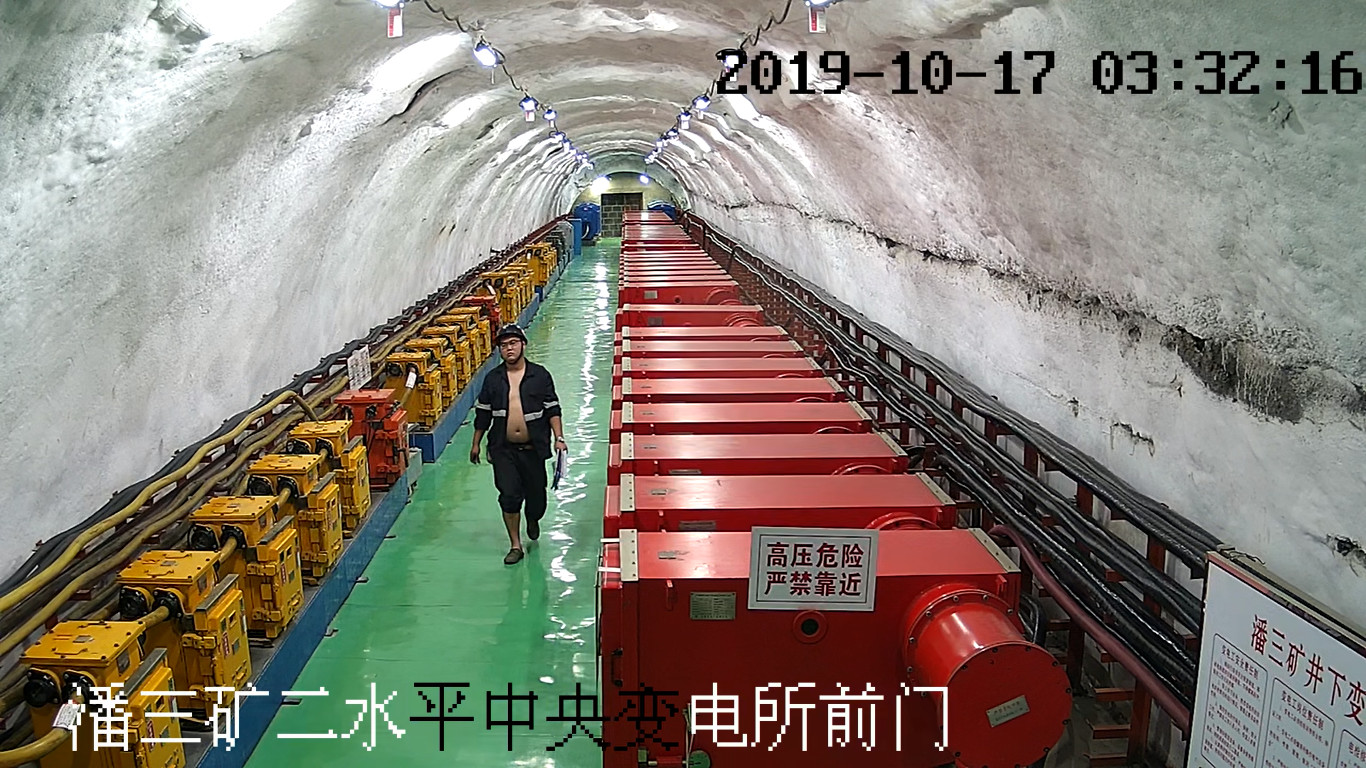helmet: (494, 323, 528, 346)
